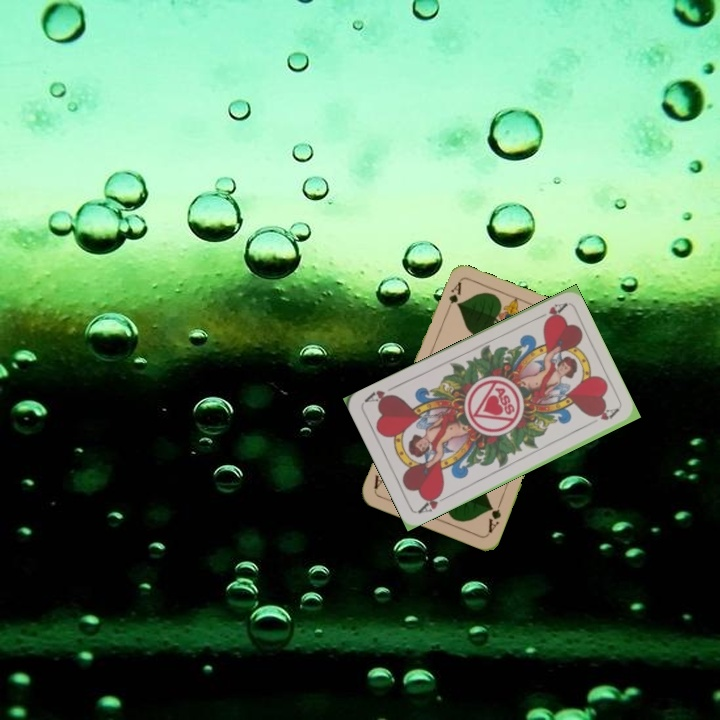GA: (442, 278, 464, 317), (484, 496, 505, 536)
HA: (414, 488, 452, 516), (530, 299, 569, 325)
